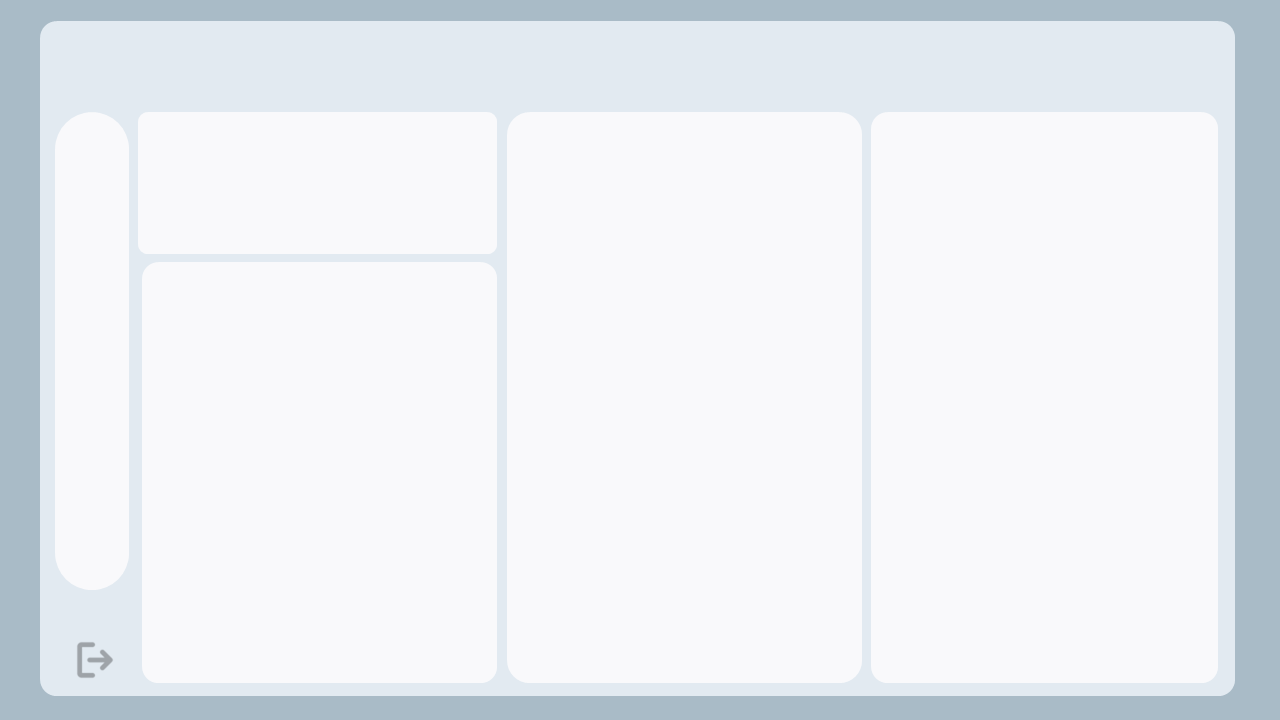

This screenshot's page, from the dashboard's own definition file:
{"tool":"powerbi","page":{"name":"Page 1","canvas":[1920,1080],"ordinal":0},"visuals":[{"type":"cardVisual","fields":{"Data":["CountNonNull(health_dataset.Patient_ID)"]},"box":[462.5,285,356.2,146.2],"z":0},{"type":"textbox","box":[480,285,102.5,45],"z":3},{"type":"advancedSlicerVisual","fields":{"Values":["condition.Organ_Condition"]},"box":[1208.8,203.8,316.2,81.2],"z":4}]}

Visuals, with their boxes in screenshot pixels (x1, y1, x2, y2), scaled from the page's 1920x1080 canvas onto the 1280x720 screenshot:
cardVisual - CountNonNull(health_dataset.Patient_ID): [x1=308, y1=190, x2=546, y2=287]
textbox: [x1=320, y1=190, x2=388, y2=220]
advancedSlicerVisual - condition.Organ_Condition: [x1=806, y1=136, x2=1017, y2=190]
